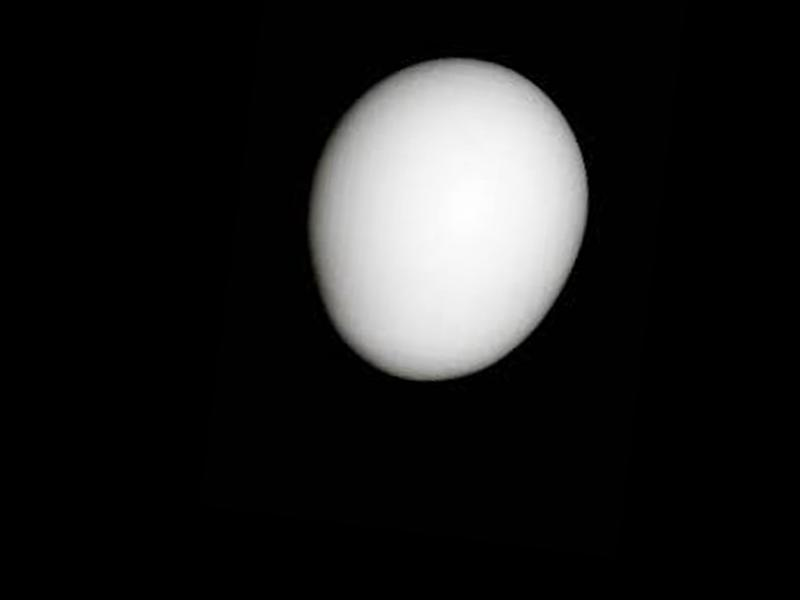Eggs: (296, 40, 603, 394)
